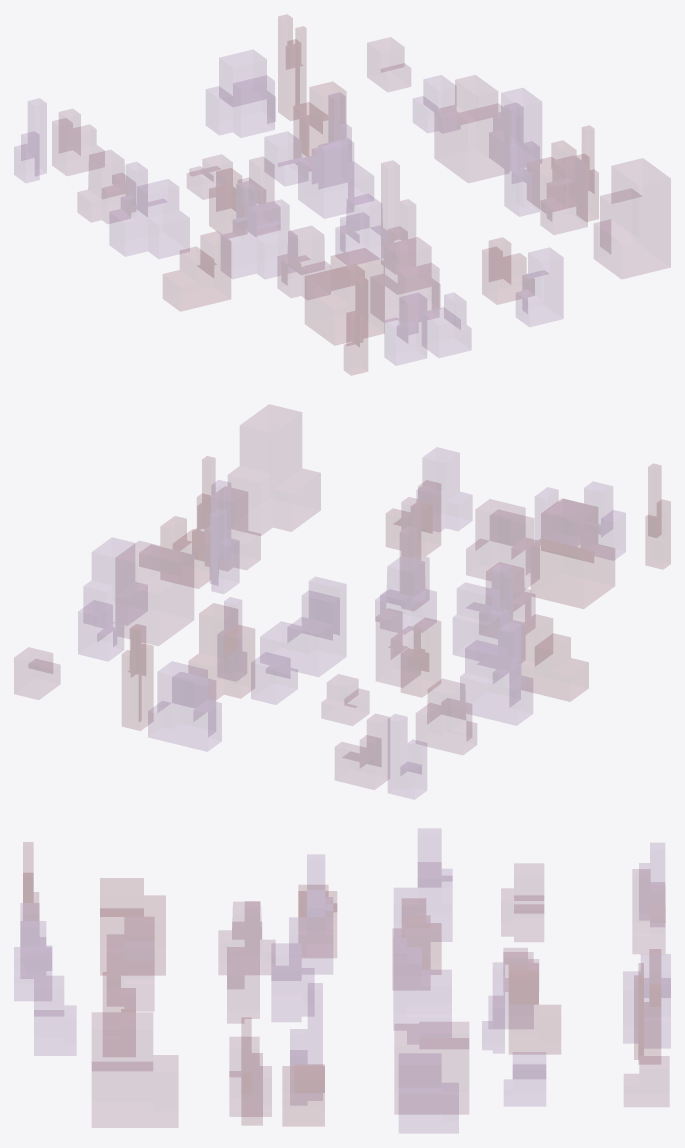
File: transparent mat.fbx
3 views of the same model, one above another, from view 1: azimuth 30°, elevation 25°; view 2: azimuth 150°, elevation 25°; view 3: azimuth 270°, elevation 25° (orthographic). The views are drawn at different scales.
Visible parts, largest first — view 1: Cube.027, Cube.001, Cube.007, Cube.011, Cube.023, Cube.003, Cube.028, Cube.013, Cube.005, Cube.025, Cube.018, Cube.016 (+22 smaller); view 2: Cube.027, Cube.007, Cube.001, Cube.013, Cube.011, Cube.003, Cube.023, Cube, Cube.028, Cube.018, Cube.005, Cube.006 (+22 smaller); view 3: Cube.027, Cube.001, Cube.007, Cube.013, Cube.018, Cube.028, Cube.011, Cube, Cube.023, Cube.003, Cube.016, Cube.024 (+22 smaller).
Boxes of the visible parts, box(x1,y1,x2,y2) form: Cube.027: box(594, 159, 670, 278); Cube.001: box(435, 75, 508, 182); Cube.007: box(305, 248, 384, 345); Cube.011: box(110, 162, 189, 258); Cube.023: box(221, 181, 297, 278); Cube.003: box(206, 50, 275, 137); Cube.028: box(371, 237, 439, 322); Cube.013: box(298, 138, 373, 218); Cube.005: box(163, 231, 230, 310); Cube.025: box(505, 103, 539, 216); Cube.018: box(489, 88, 541, 170); Cube.016: box(381, 161, 415, 273); Cube.027: box(228, 405, 320, 535); Cube.007: box(531, 499, 614, 608); Cube.001: box(116, 541, 193, 645); Cube.013: box(260, 577, 345, 676); Cube.011: box(460, 622, 532, 725); Cube.003: box(148, 662, 221, 751); Cube.023: box(453, 563, 524, 661); Cube: box(189, 603, 254, 700); Cube.028: box(466, 499, 539, 588); Cube.018: box(84, 538, 147, 624); Cube.005: box(518, 614, 588, 701); Cube.006: box(375, 556, 436, 633); Cube.027: box(92, 1013, 177, 1127); Cube.001: box(395, 1022, 468, 1113); Cube.007: box(100, 878, 165, 974); Cube.013: box(394, 938, 451, 1043); Cube.018: box(399, 1054, 458, 1132); Cube.028: box(107, 917, 154, 1010); Cube.011: box(394, 829, 452, 941); Cube: box(509, 963, 560, 1053); Cube.023: box(289, 855, 332, 973); Cube.003: box(623, 954, 670, 1047); Cube.016: box(227, 901, 259, 1022); Cube.024: box(219, 902, 274, 974).
Bounding box in the file's own units: 3442 × 938 × 4330.
